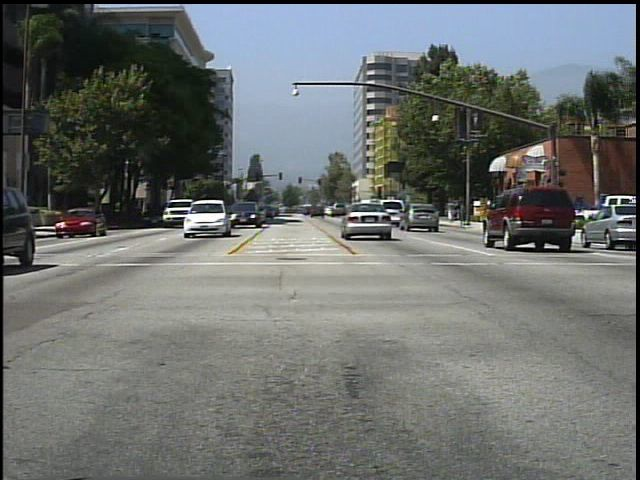person: (484, 195, 503, 229), (446, 196, 459, 225)
